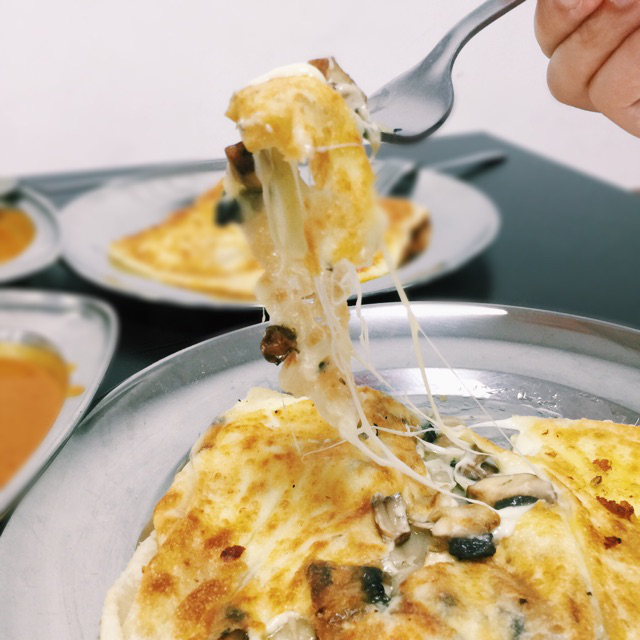Prata: (111, 175, 431, 293)
